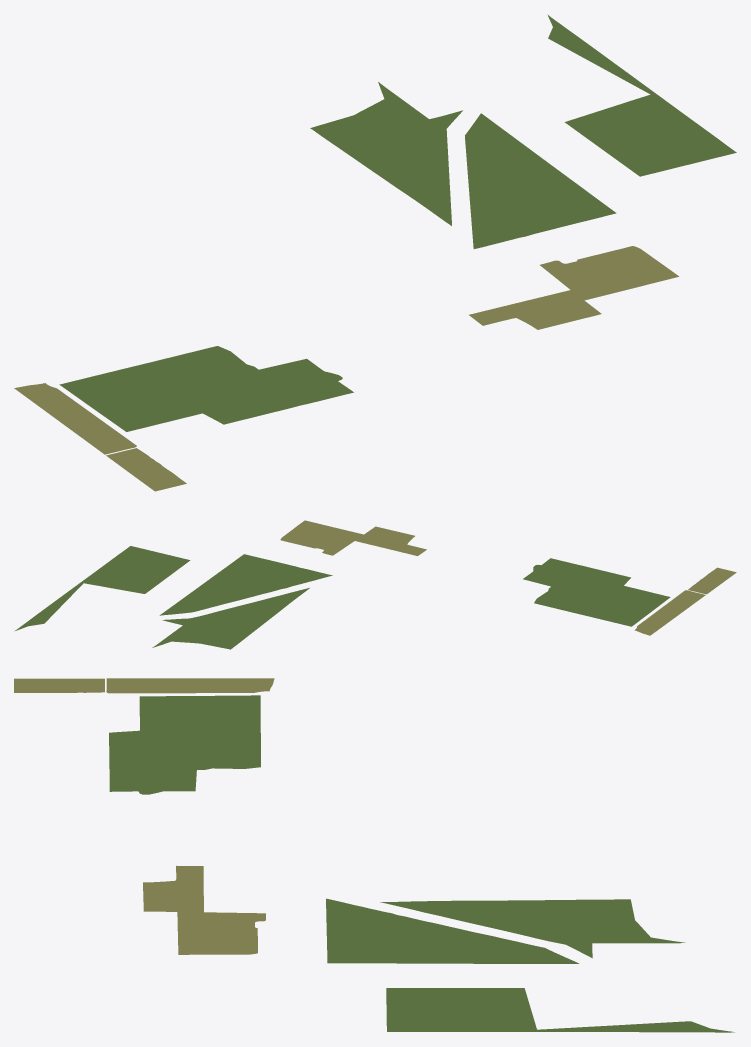
The model's file is LandCover.glb.
3 views of the same model, one above another, from view 1: azimuth 30°, elevation 25°; view 2: azimuth 150°, elevation 25°; view 3: azimuth 270°, elevation 25° (orthographic). The views are drawn at different scales.
Visible parts, largest first — view 1: LandCover; view 2: LandCover; view 3: LandCover.
Boxes of the visible parts, x1,y1,x2,y2 form: LandCover: (14, 14, 736, 491); LandCover: (14, 520, 736, 649); LandCover: (14, 678, 734, 1032).
Bounding box in the file's own units: 2000 × 3.18 × 1730.
